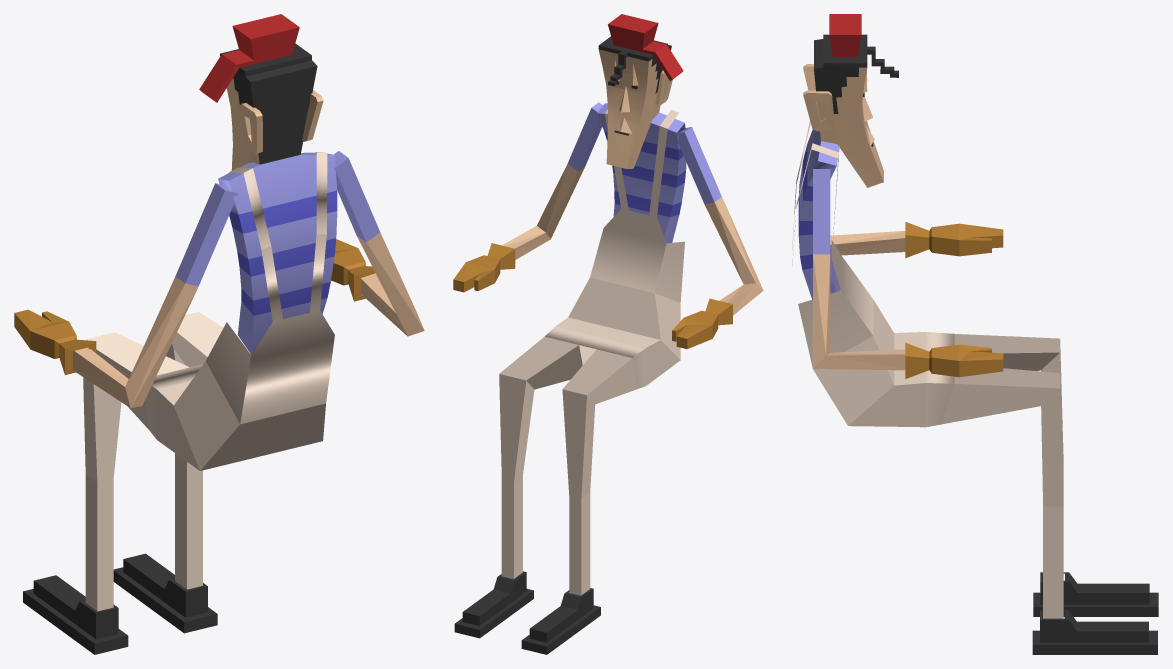
The model's file is char_01_13.glb.
3 views of the same model, side by side, from view 1: azimuth 30°, elevation 25°; view 2: azimuth 150°, elevation 25°; view 3: azimuth 270°, elevation 25° (orthographic). The views are drawn at different scales.
Visible parts, largest first — view 1: body, shirt_stripe2, arms, hair, shirt_stripe1, footL, footR, cap, head, handL, handR; view 2: body, shirt_stripe2, head, arms, footR, footL, cap, handR, handL, shirt_stripe1, hair; view 3: body, arms, head, footR, shirt_stripe2, footL, handR, handL, hair, cap, shirt_stripe1.
Part boxes in pixels (x1,y1,x2,y2): body: (83, 152, 334, 611); shirt_stripe2: (175, 151, 380, 354); arms: (72, 232, 424, 407); hair: (220, 43, 317, 164); shirt_stripe1: (229, 190, 337, 315); footL: (23, 575, 128, 654); footR: (113, 553, 217, 633); cap: (199, 14, 299, 102); head: (226, 78, 323, 170); handL: (14, 309, 96, 374); handR: (331, 239, 375, 301); body: (499, 109, 684, 595); shirt_stripe2: (567, 102, 721, 243); head: (598, 49, 672, 168); arms: (502, 164, 763, 315); footR: (454, 571, 533, 638); footL: (521, 588, 600, 654); cap: (608, 14, 683, 80); handR: (453, 243, 515, 292); handL: (672, 298, 732, 348); shirt_stripe1: (604, 131, 685, 216); hair: (598, 36, 671, 93); body: (792, 121, 1063, 618); arms: (812, 231, 905, 370); head: (803, 64, 883, 187); footR: (1032, 610, 1157, 654); shirt_stripe2: (798, 129, 840, 299); footL: (1033, 572, 1158, 616); handR: (905, 342, 1003, 378); handL: (905, 222, 1003, 258); hair: (814, 34, 898, 113); cap: (829, 14, 861, 56); shirt_stripe1: (798, 144, 812, 269).
Size of the model in its own units: 0.6582 by 1.33 by 0.7272.
